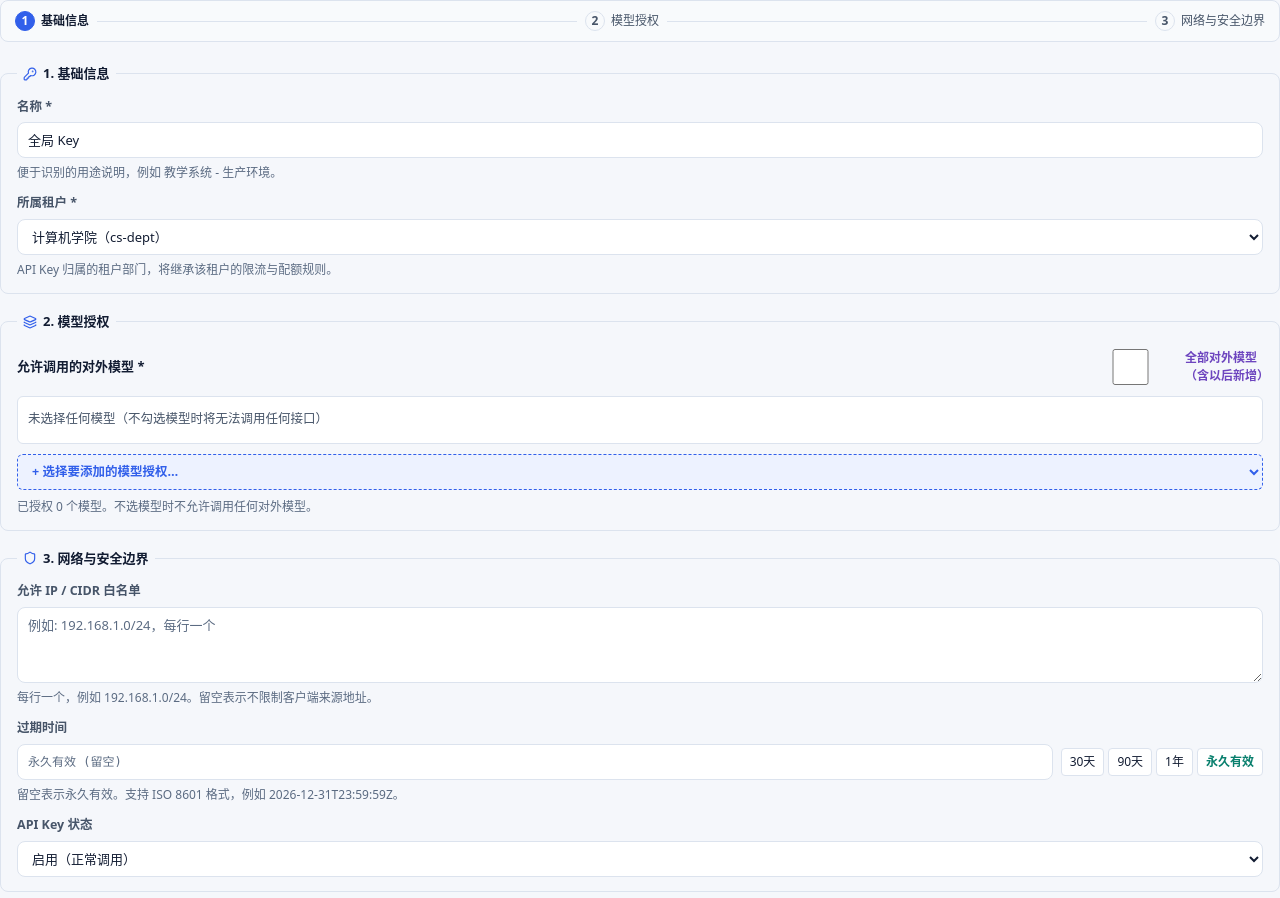
Test: KeyForm › handles wildcard model authorization toggle
This screenshot has width=1280, height=898.
Note: Turn wildcard on
What coordinates should you click on to do the following:
click the checkbox labelled "全部对外模型（含以后新增）"
I would click on:
 (1130, 366)
Its box is [1085,348,1176,384].
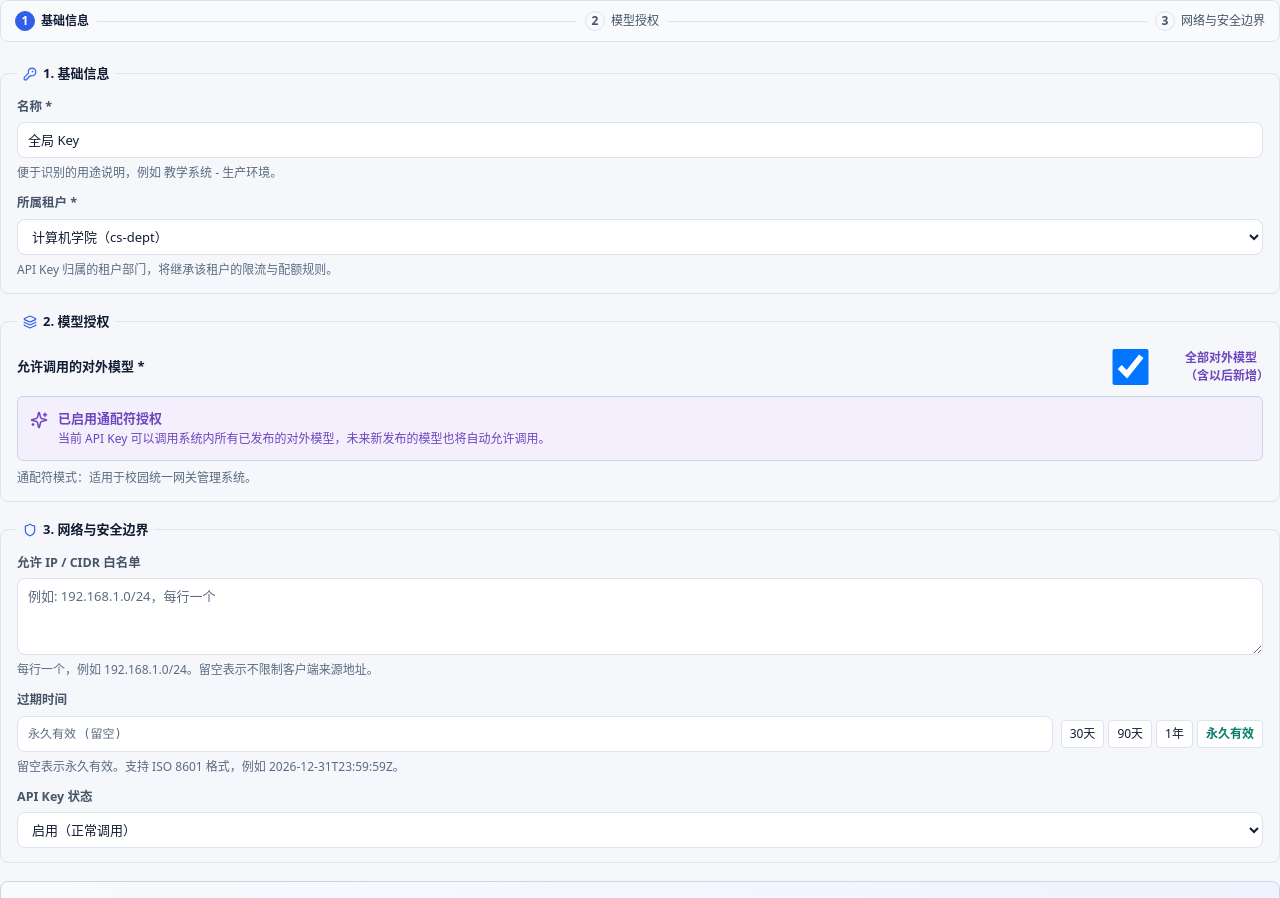
Expected: the checkbox labelled "全部对外模型（含以后新增）" is checked, [1085,348,1176,384]
Expected: the text "已启用通配符授权" is shown, [58,408,162,426]
